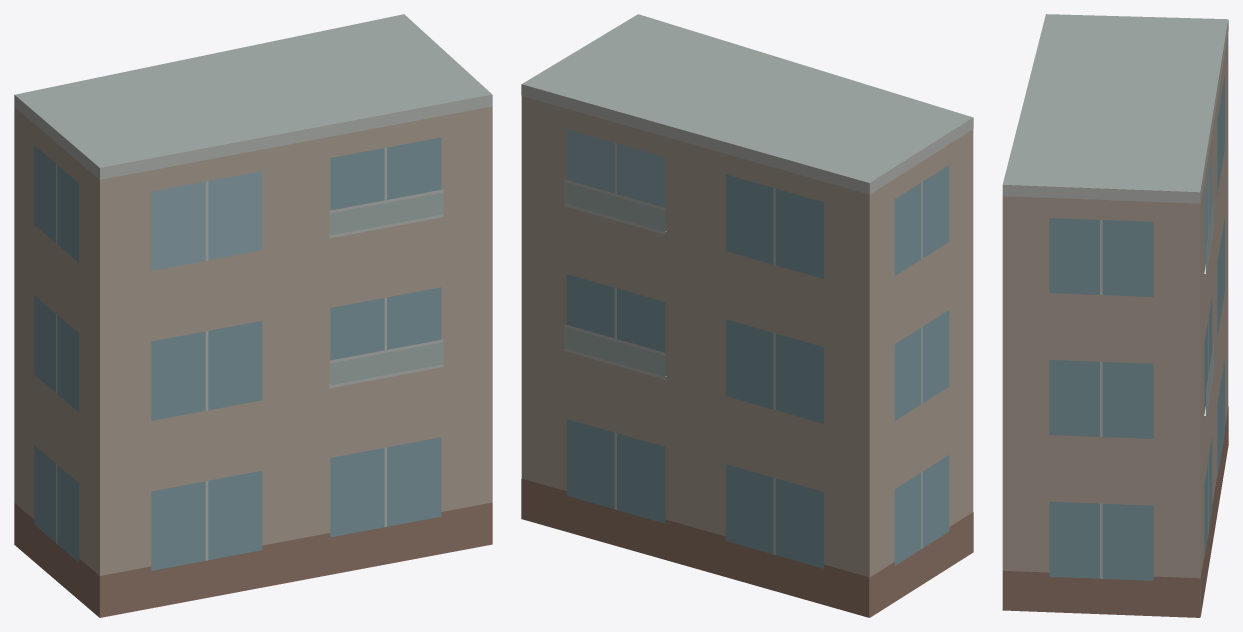
File: survey-upis-33041013.glb
The picture shows the model from 3 angles, left to right: view 1: azimuth 30°, elevation 25°; view 2: azimuth 150°, elevation 25°; view 3: azimuth 270°, elevation 25°; orthographic projection. The views are drawn at different scales.
Visible parts, largest first — view 1: survey-upis-33041013.tmp; view 2: survey-upis-33041013.tmp; view 3: survey-upis-33041013.tmp.
Boxes of the visible parts, bbox=[...] form: survey-upis-33041013.tmp: bbox=[14, 14, 492, 617]; survey-upis-33041013.tmp: bbox=[521, 14, 973, 617]; survey-upis-33041013.tmp: bbox=[1002, 14, 1228, 617].
Size of the model in its own units: 8.23 by 9.15 by 4.41.
